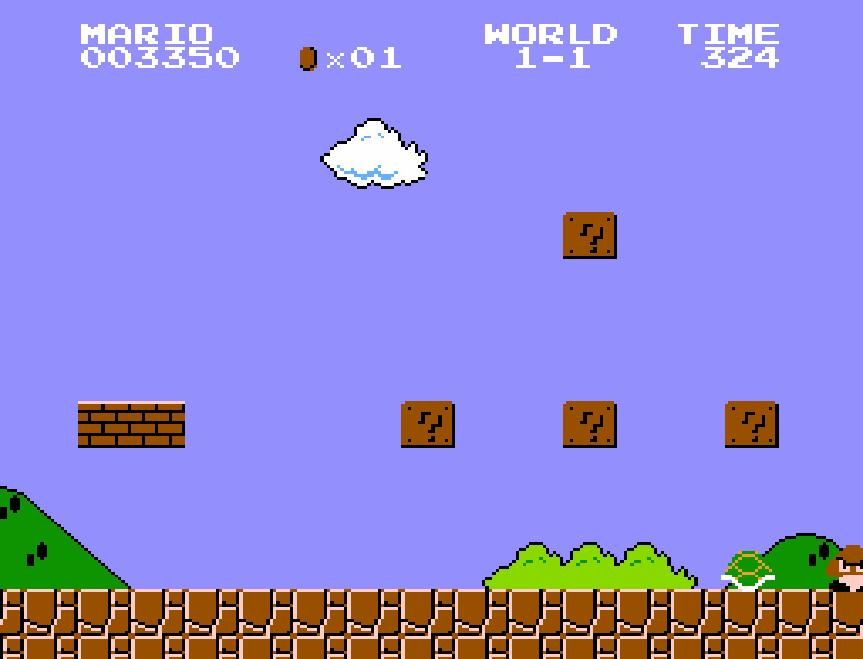little_mario: (362, 473, 420, 523)
